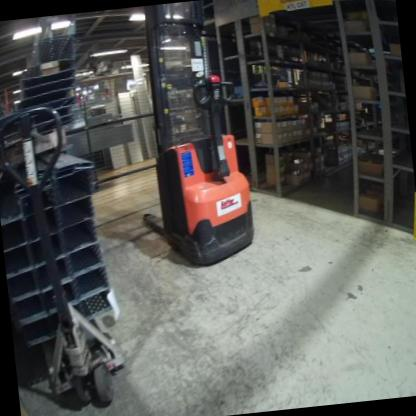pallet_truck: (0, 91, 129, 416), (114, 0, 262, 276)
